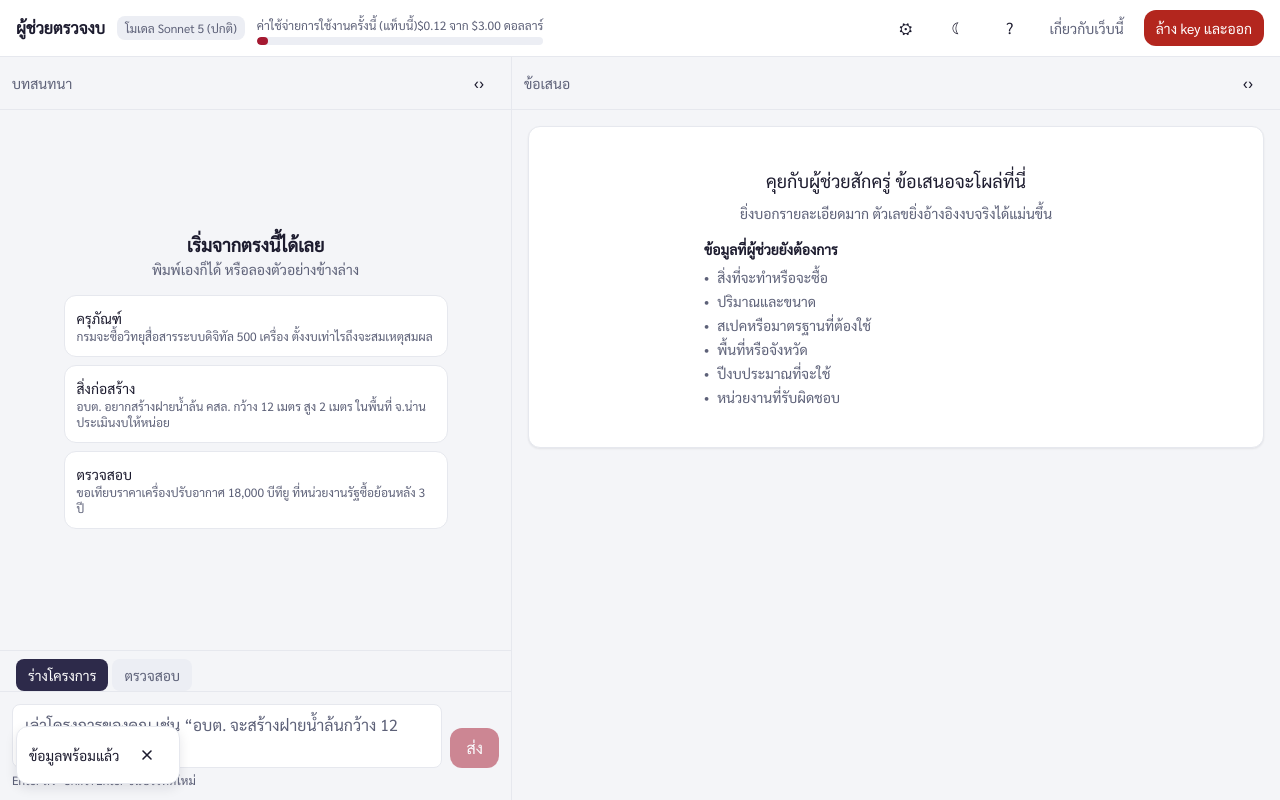
Test: WorkspacePage — header (06 §4.2) › เปิดแผ่นคีย์ลัดได้ทั้งจากปุ่ม "?" และคีย์ลัด "?" (06 §4.6)
Expected: the heading "ปุ่มลัด" is not shown
Click the button named "ปุ่มลัด" at (1010,28), box x1=990 y1=8 x2=1030 y2=48
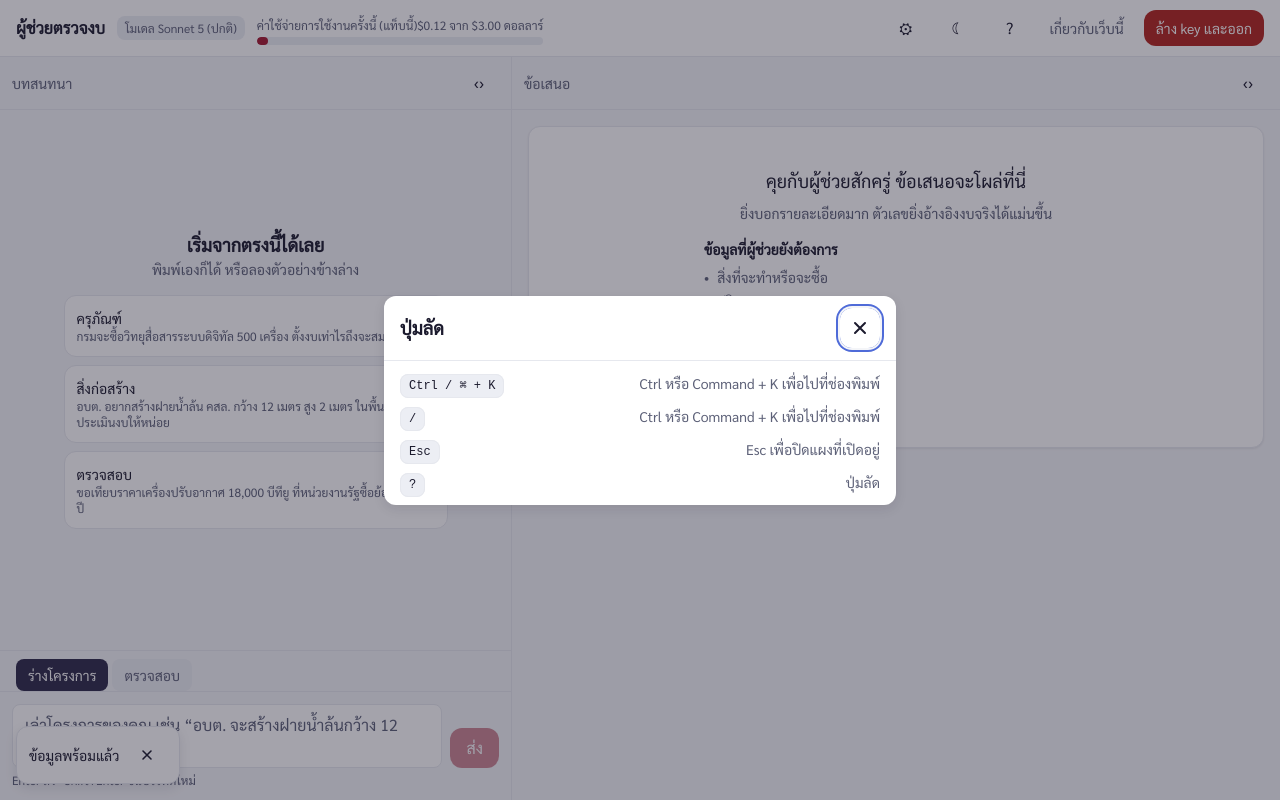
Expected: the heading "ปุ่มลัด" is shown, x1=400 y1=314 x2=444 y2=342
Press Escape
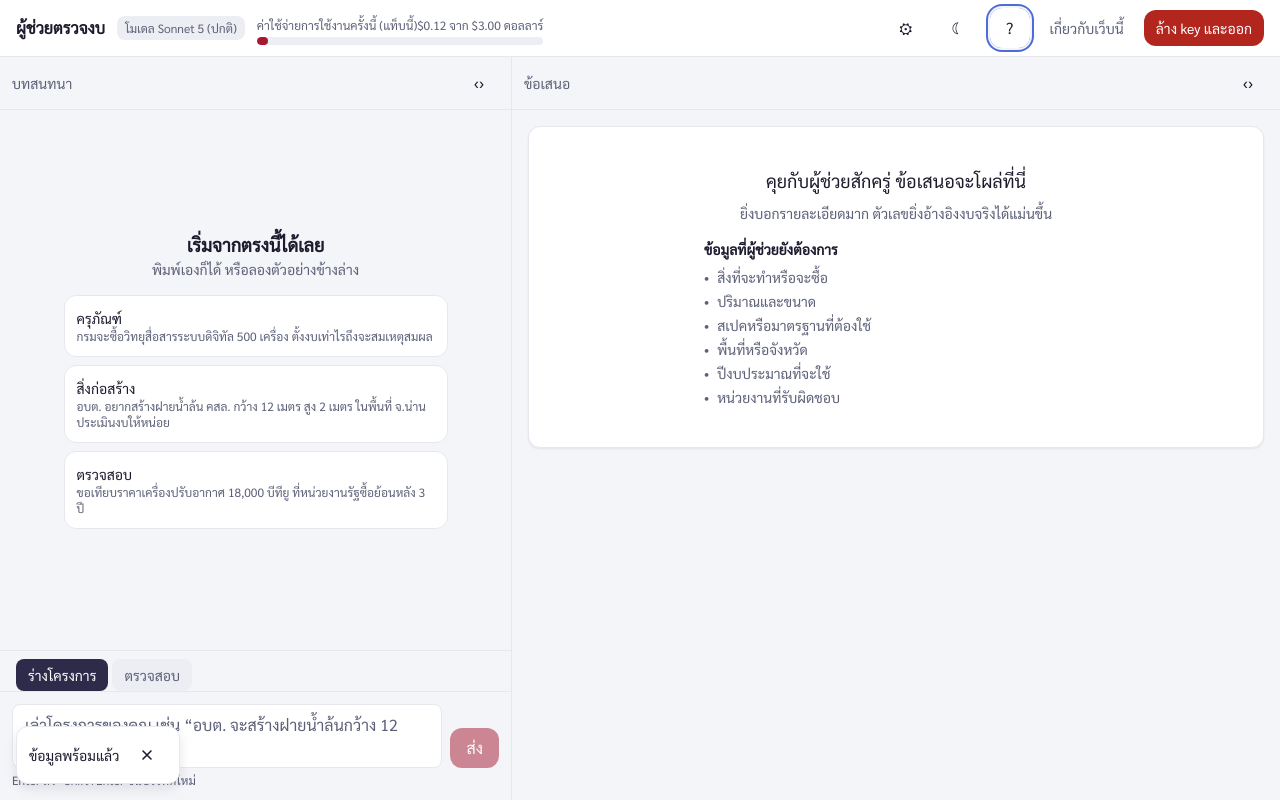
Expected: the heading "ปุ่มลัด" is gone
Press ?
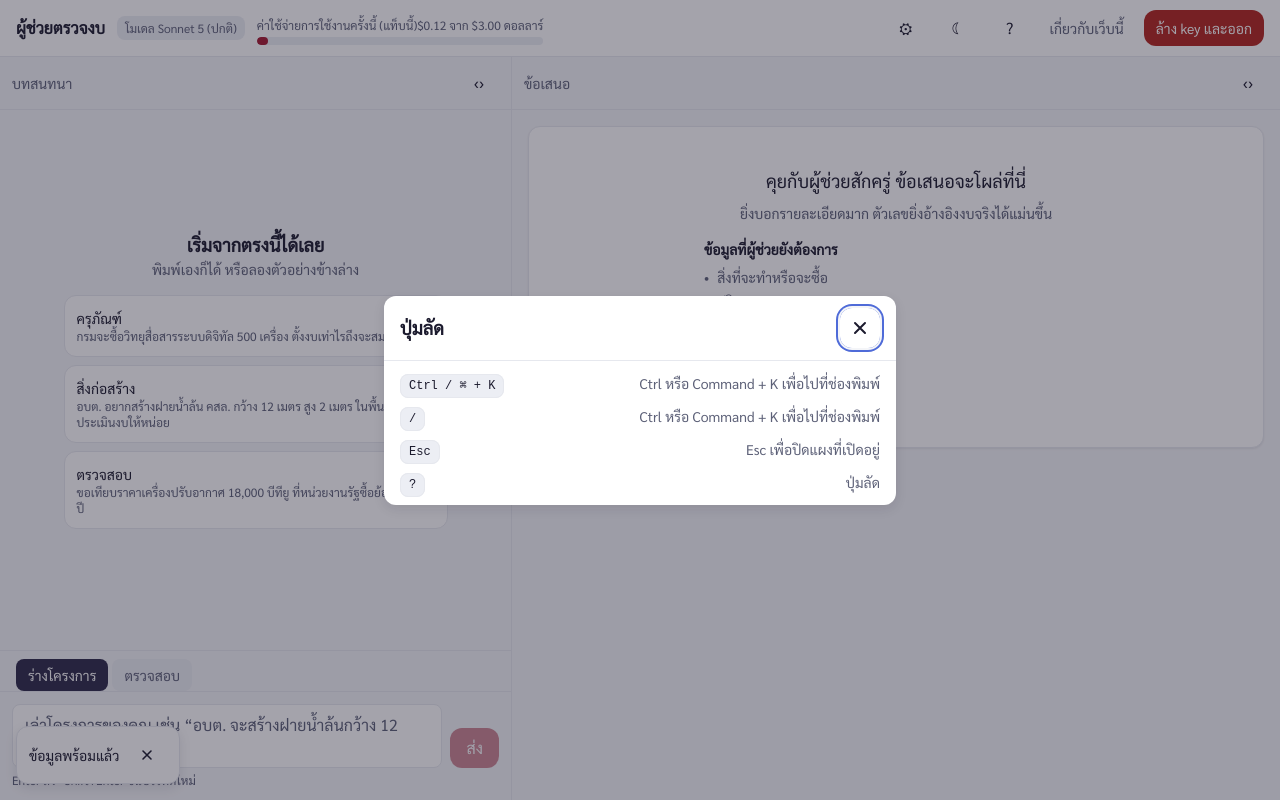
Expected: the heading "ปุ่มลัด" is shown, x1=400 y1=314 x2=444 y2=342
